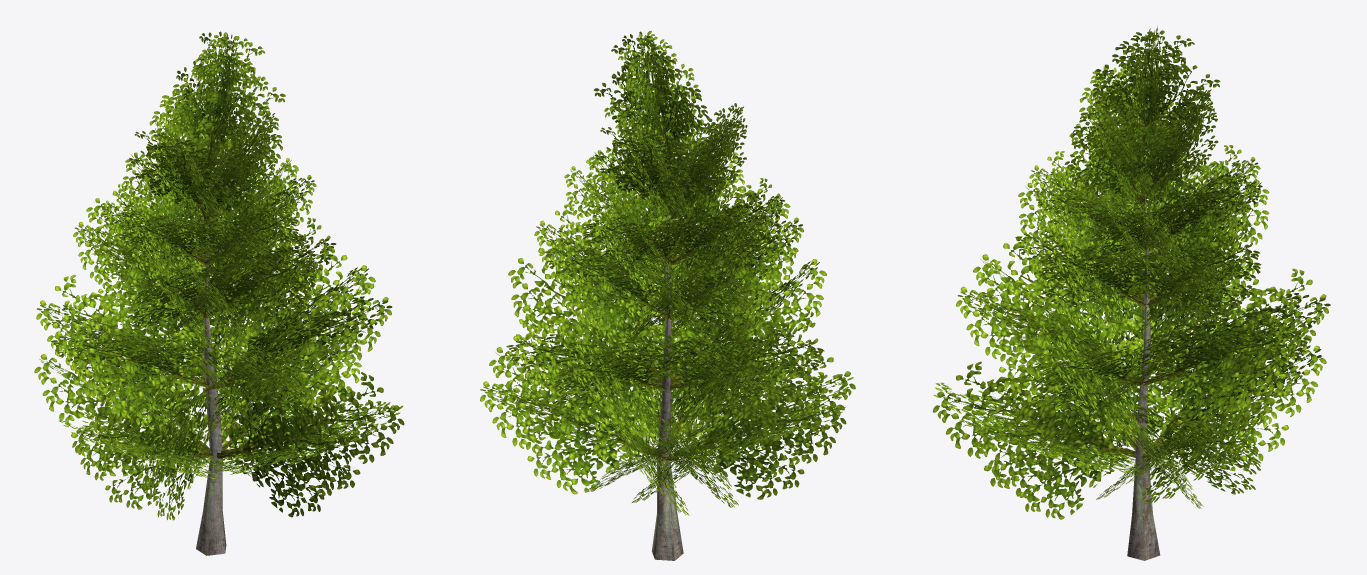
File: tree_a.FBX
3 renders of one model, left to right at view 1: azimuth 30°, elevation 25°; view 2: azimuth 150°, elevation 25°; view 3: azimuth 270°, elevation 25°, orthographic. The views are drawn at different scales.
Visible parts, largest first — view 1: tree_a; view 2: tree_a; view 3: tree_a.
Boxes of the visible parts, box(x1,y1,x2,y2) form: tree_a: box(34, 31, 404, 555); tree_a: box(480, 30, 855, 560); tree_a: box(932, 26, 1330, 560).
Size of the model in its own units: 9.84 by 13.9 by 10.21.
2 materials, 2 textured.
